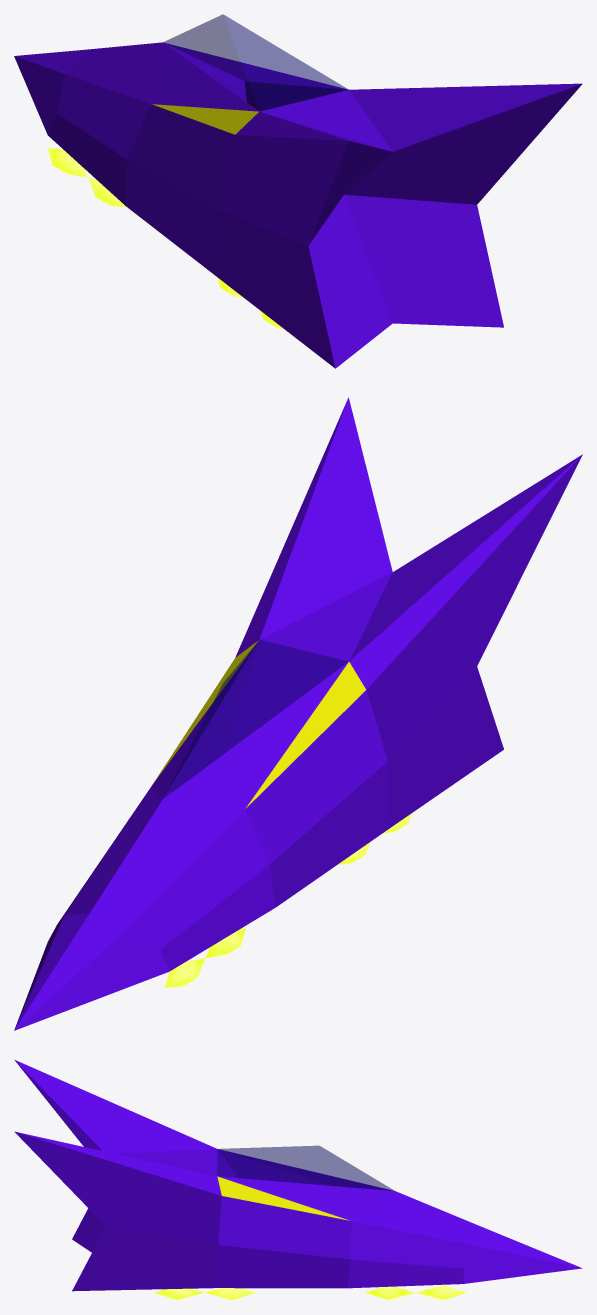
File: engine2.glb
3 renders of one model, top to bottom at view 1: azimuth 30°, elevation 25°; view 2: azimuth 150°, elevation 25°; view 3: azimuth 270°, elevation 25°, orthographic. The views are drawn at different scales.
Parts seen in each view (by area): view 1: train.F, levi.F; view 2: train.F, levi.F; view 3: train.F, levi.F.
Part boxes in pixels (left/top/right/bottom): train.F: left=14, top=14, right=582, bottom=368; levi.F: left=47, top=148, right=283, bottom=328; train.F: left=14, top=397, right=582, bottom=1030; levi.F: left=165, top=814, right=411, bottom=987; train.F: left=14, top=1060, right=582, bottom=1291; levi.F: left=154, top=1285, right=466, bottom=1300.
Size of the model in its own units: 5 by 6.06 by 16.7.
